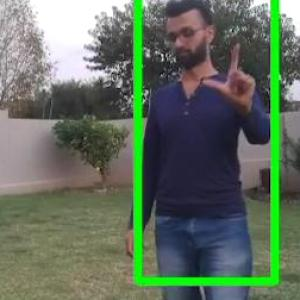land_hand: (198, 34, 262, 109)
